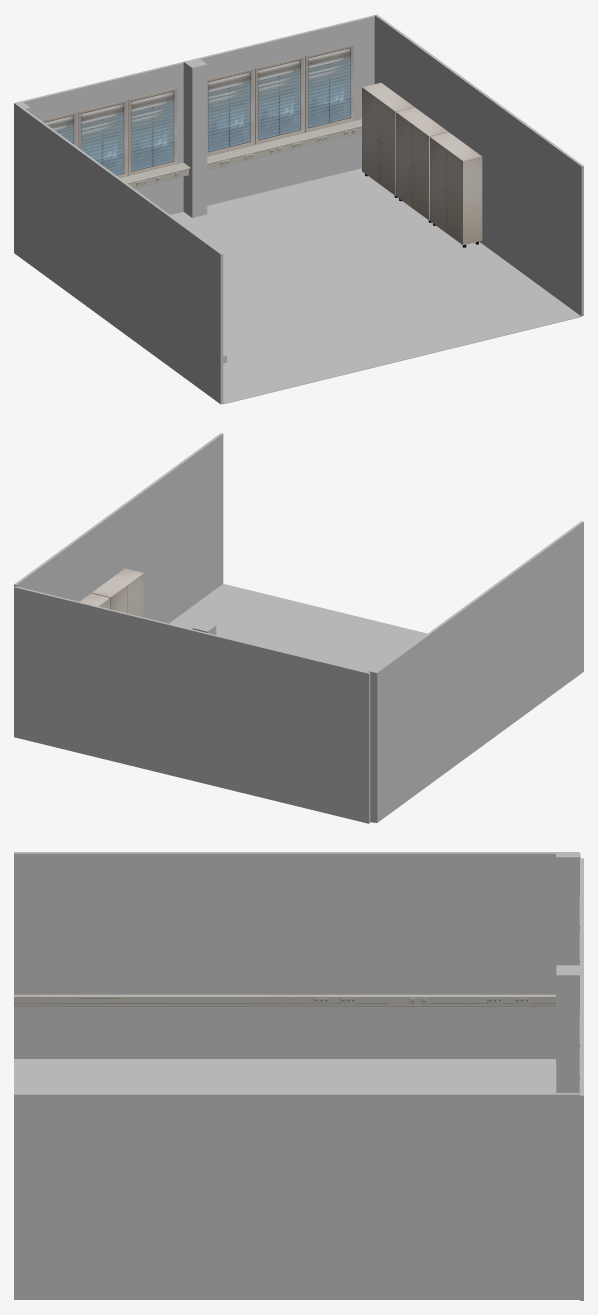
File: world.dae
3 renders of one model, top to bottom at view 1: azimuth 30°, elevation 25°; view 2: azimuth 150°, elevation 25°; view 3: azimuth 270°, elevation 25°, orthographic. The views are drawn at different scales.
Parts seen in each view (by area): view 1: ground, Wall_02, Wall_01, Wall_01_001, Cube_003, window_03_001, Pillar_01, window_02, window_03, window_01, Cube_002, Cube_001 (+4 smaller); view 2: Wall_01_001, Wall_02, Wall_01, ground, Cube_003, Pillar_02; view 3: Wall_01, Wall_02, ground, pannel_01, Pillar_01, Pillar_02, Wall_01_001.
Part boxes in pixels (bbox=[...]): ground: bbox=[170, 168, 581, 404]; Wall_02: bbox=[14, 102, 223, 404]; Wall_01: bbox=[374, 14, 583, 316]; Wall_01_001: bbox=[22, 15, 374, 214]; Cube_003: bbox=[430, 132, 482, 245]; window_03_001: bbox=[128, 88, 177, 175]; Pillar_01: bbox=[183, 58, 207, 217]; window_02: bbox=[255, 56, 303, 144]; window_03: bbox=[305, 44, 353, 132]; window_01: bbox=[207, 68, 253, 155]; Cube_002: bbox=[396, 107, 447, 220]; Cube_001: bbox=[362, 82, 414, 195]; Wall_01_001: bbox=[14, 586, 370, 823]; Wall_02: bbox=[374, 521, 583, 822]; Wall_01: bbox=[14, 433, 223, 623]; ground: bbox=[169, 584, 427, 822]; Cube_003: bbox=[92, 568, 143, 617]; Pillar_02: bbox=[369, 665, 382, 822]; Wall_01: bbox=[14, 1093, 579, 1299]; Wall_02: bbox=[14, 852, 579, 1058]; ground: bbox=[14, 1059, 556, 1092]; pannel_01: bbox=[14, 994, 555, 1006]; Pillar_01: bbox=[556, 965, 579, 1092]; Pillar_02: bbox=[556, 853, 580, 1062]; Wall_01_001: bbox=[580, 858, 583, 1300].
Size of the model in its own units: 7.51 by 7.46 by 2.99.
